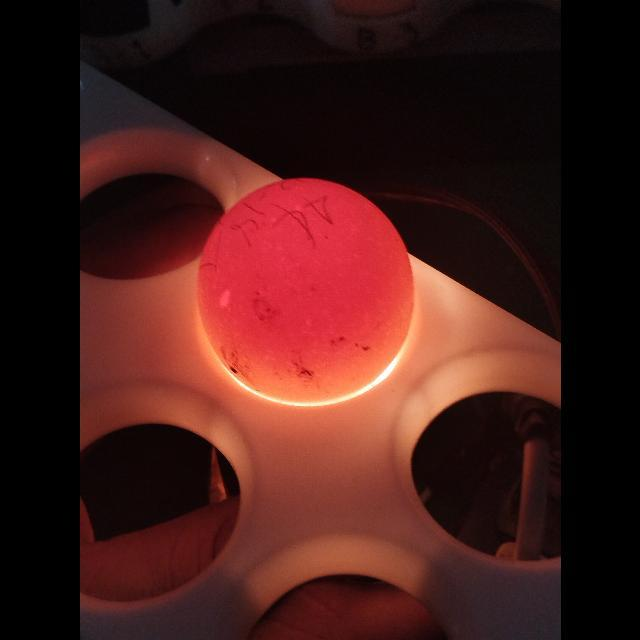Infertile: (198, 175, 410, 395)
